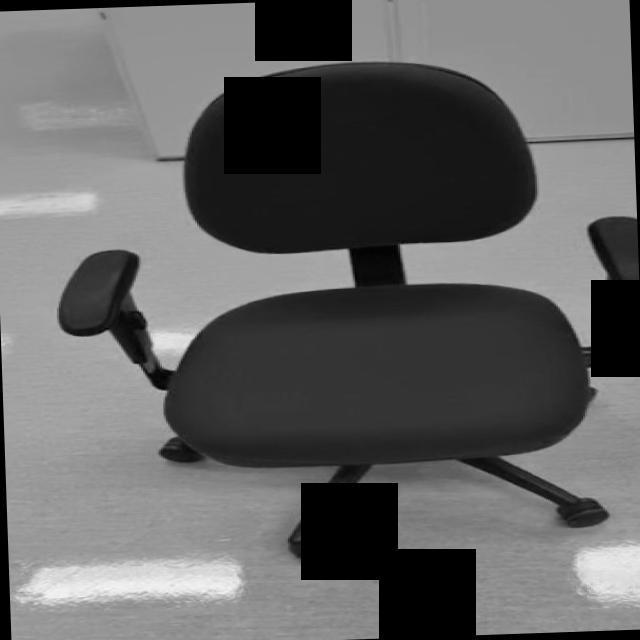chair: (48, 51, 640, 571)
